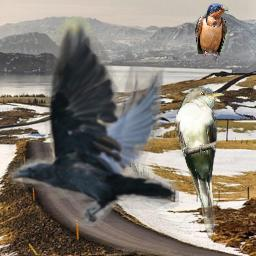Crow: (8, 16, 179, 226)
Cuckoo: (175, 86, 225, 240)
Swallow: (195, 3, 229, 61)
